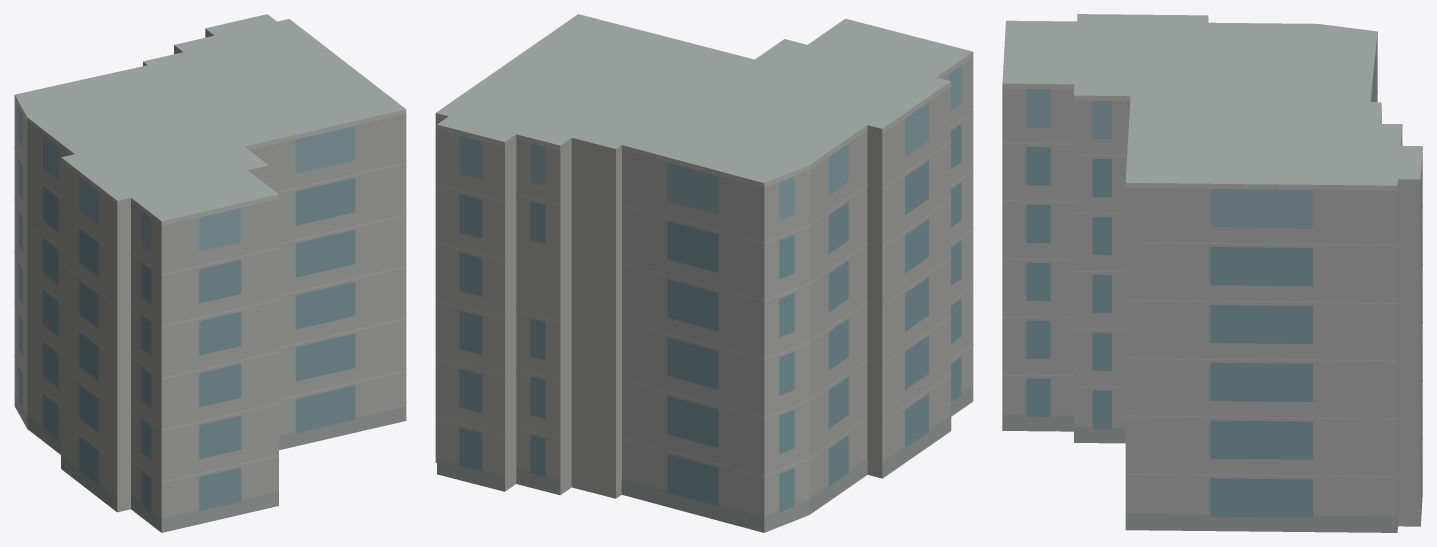
Rendered from survey-upis-33033493.glb.
The picture shows the model from 3 angles, left to right: view 1: azimuth 30°, elevation 25°; view 2: azimuth 150°, elevation 25°; view 3: azimuth 270°, elevation 25°; orthographic projection. The views are drawn at different scales.
Parts seen in each view (by area): view 1: survey-upis-33033493.tmp; view 2: survey-upis-33033493.tmp; view 3: survey-upis-33033493.tmp.
Boxes of the visible parts, <box> form: survey-upis-33033493.tmp: <box>14,14,406,532</box>; survey-upis-33033493.tmp: <box>435,14,973,532</box>; survey-upis-33033493.tmp: <box>1002,14,1422,532</box>.
Size of the model in its own units: 17.94 by 16.9 by 18.56.
